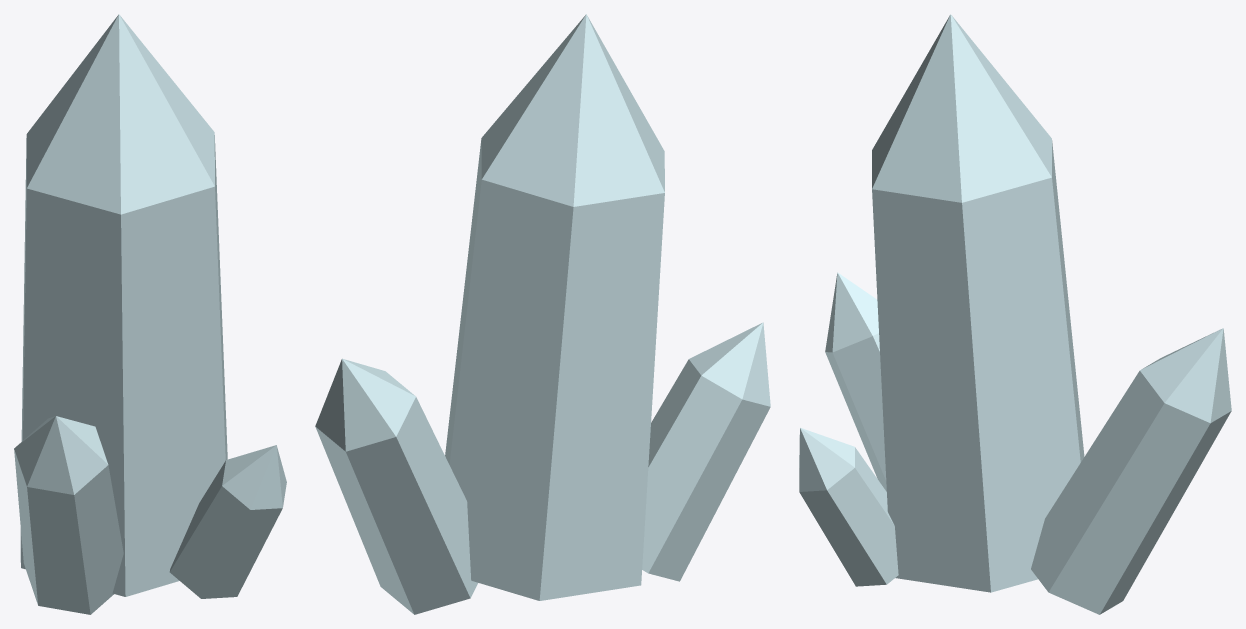
The model's file is SM_GlassShard.fbx.
3 views of the same model, side by side, from view 1: azimuth 30°, elevation 25°; view 2: azimuth 150°, elevation 25°; view 3: azimuth 270°, elevation 25° (orthographic). The views are drawn at different scales.
Visible parts, largest first — view 1: SM_GlassShard; view 2: SM_GlassShard; view 3: SM_GlassShard.
Part boxes in pixels (x1,y1,x2,y2): SM_GlassShard: [14, 14, 286, 614]; SM_GlassShard: [315, 14, 770, 614]; SM_GlassShard: [799, 14, 1231, 614].
Bounding box in the file's own units: 0.5472 × 1.04 × 0.7474.
